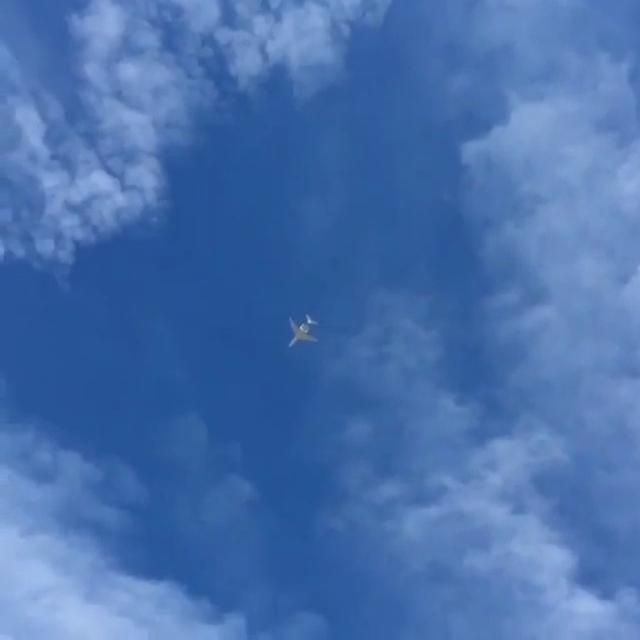AirPlane: (278, 296, 327, 359)
